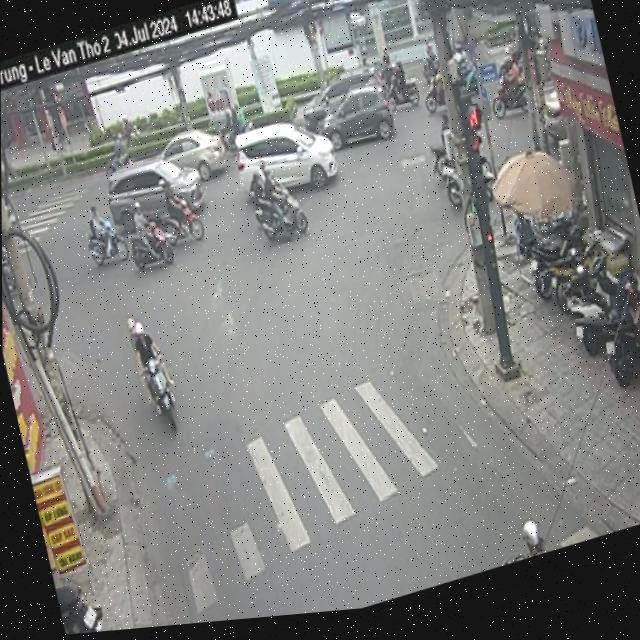Red: (458, 105, 501, 222), (480, 237, 501, 290)
